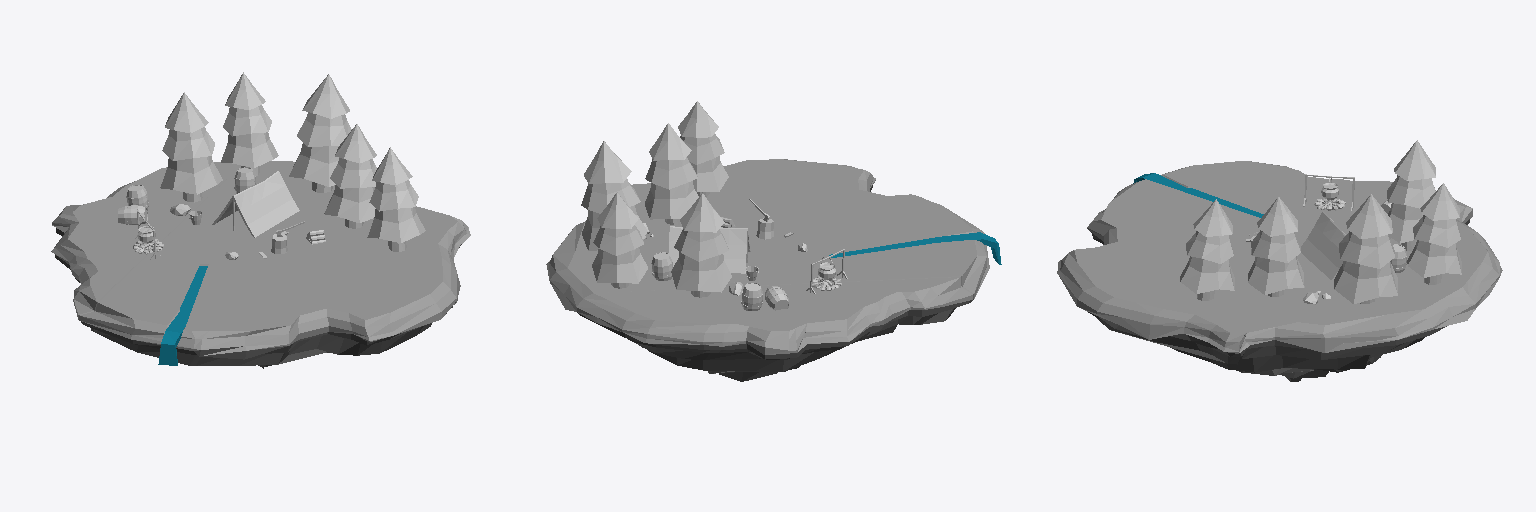
Rendered from islandwithdecor.obj.
The picture shows the model from 3 angles: view 1: azimuth 30°, elevation 25°; view 2: azimuth 150°, elevation 25°; view 3: azimuth 270°, elevation 25°; orthographic projection.
Visible parts, largest first — view 1: Cube.002_Mesh.164, Object001.001_Mesh.001, Cube.001_Mesh.163, Object001.002_Mesh.002, Cube_Cube.001, Object001.004_Mesh.004, Object001_Mesh; view 2: Cube.002_Mesh.164, Object001.001_Mesh.001, Cube.001_Mesh.163, Object001.004_Mesh.004, Object001.002_Mesh.002, Cube_Cube.001, Object001_Mesh; view 3: Cube.002_Mesh.164, Object001.001_Mesh.001, Cube.001_Mesh.163, Object001.002_Mesh.002, Cube_Cube.001, Object001_Mesh.
Boxes of the visible parts, <box> form: Cube.002_Mesh.164: <box>51,161,470,359</box>; Object001.001_Mesh.001: <box>160,72,425,251</box>; Cube.001_Mesh.163: <box>55,228,461,368</box>; Object001.002_Mesh.002: <box>212,171,299,237</box>; Cube_Cube.001: <box>158,266,207,365</box>; Object001.004_Mesh.004: <box>118,167,255,224</box>; Object001_Mesh: <box>133,210,163,259</box>; Cube.002_Mesh.164: <box>546,159,989,354</box>; Object001.001_Mesh.001: <box>581,101,731,297</box>; Cube.001_Mesh.163: <box>577,185,973,381</box>; Object001.004_Mesh.004: <box>651,252,788,310</box>; Object001.002_Mesh.002: <box>668,226,750,273</box>; Cube_Cube.001: <box>829,232,1001,264</box>; Object001_Mesh: <box>806,249,847,293</box>; Cube.002_Mesh.164: <box>1057,161,1502,353</box>; Object001.001_Mesh.001: <box>1180,140,1461,303</box>; Cube.001_Mesh.163: <box>1088,219,1469,381</box>; Object001.002_Mesh.002: <box>1301,211,1345,280</box>; Cube_Cube.001: <box>1133,173,1263,217</box>; Object001_Mesh: <box>1303,174,1354,210</box>.
Bounding box in the file's own units: 52.48 × 31.43 × 52.83.